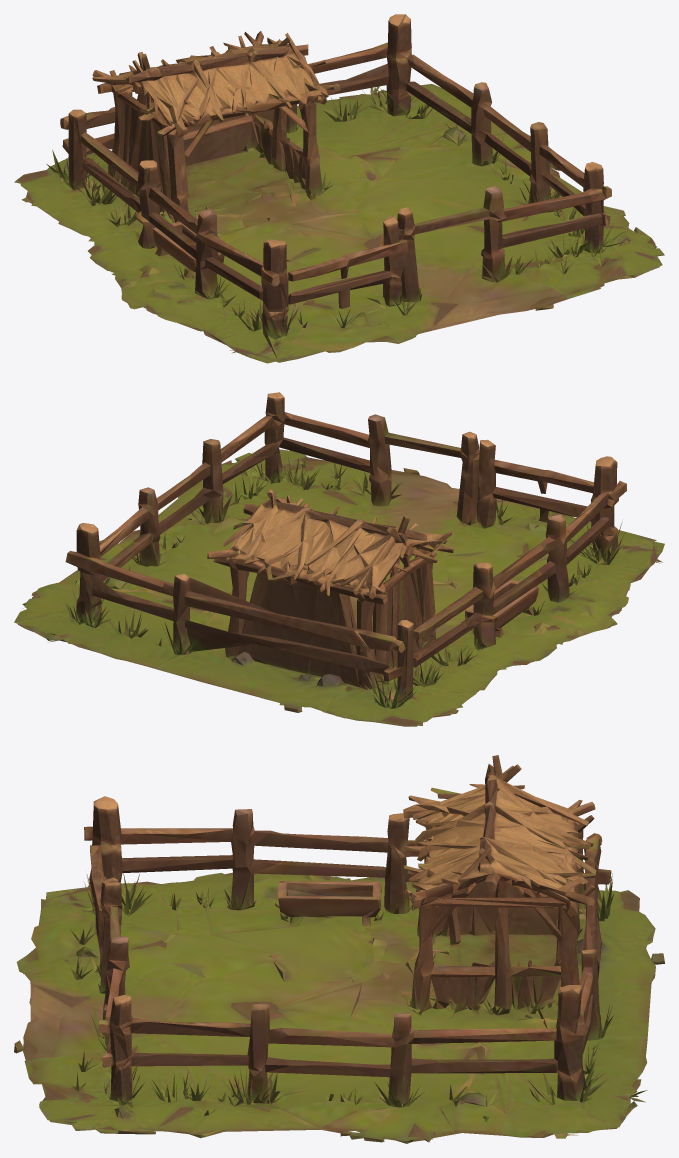
File: pasture.glb
The picture shows the model from 3 angles, top to bottom: view 1: azimuth 30°, elevation 25°; view 2: azimuth 150°, elevation 25°; view 3: azimuth 270°, elevation 25°; orthographic projection. The views are drawn at different scales.
Bounding box in the file's own units: 1.89 × 0.5866 × 1.89.
Materials: 1 (1 with a texture image).
